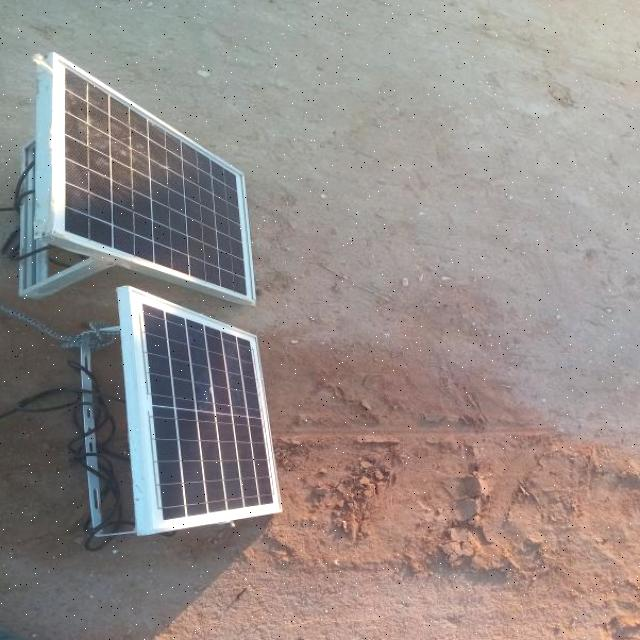Normal Solar Panel: (48, 56, 256, 300), (128, 287, 282, 533)
